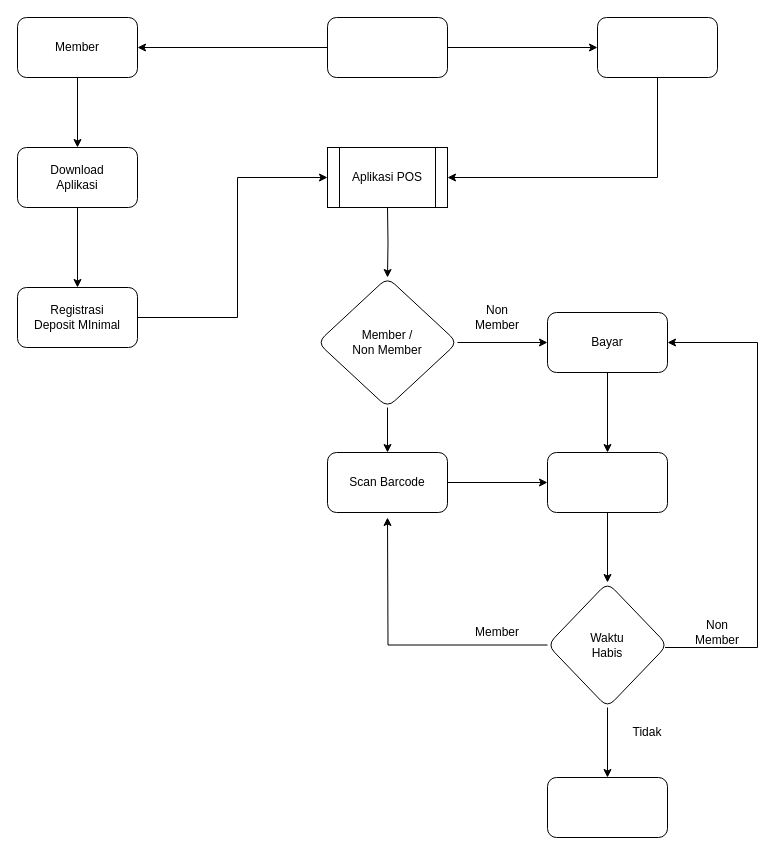
This 783x855 diagram has some shape labels left out. The box of each missing label's shape, as (x1, y1, x2, y2) in pixels:
Klien: (326, 16, 448, 78)
Lampu Hidup: (546, 452, 668, 512)
Selesai Cetak Struk: (546, 776, 668, 838)
Walk In Customer: (596, 16, 718, 78)
